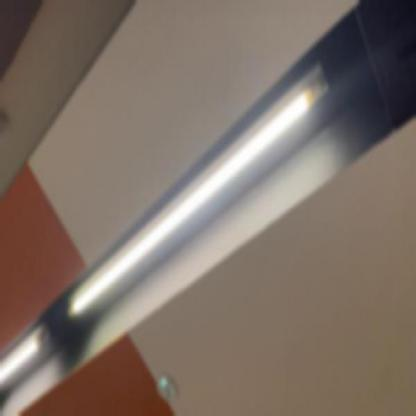light_on: (60, 62, 335, 335), (0, 317, 50, 395)
